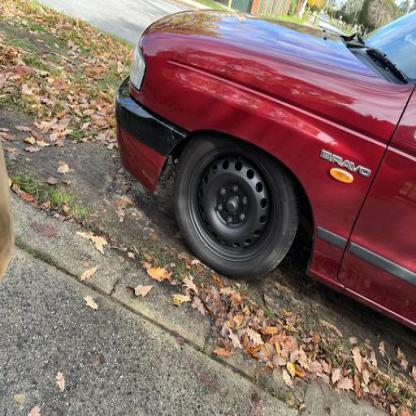Tire: (174, 131, 300, 279)
